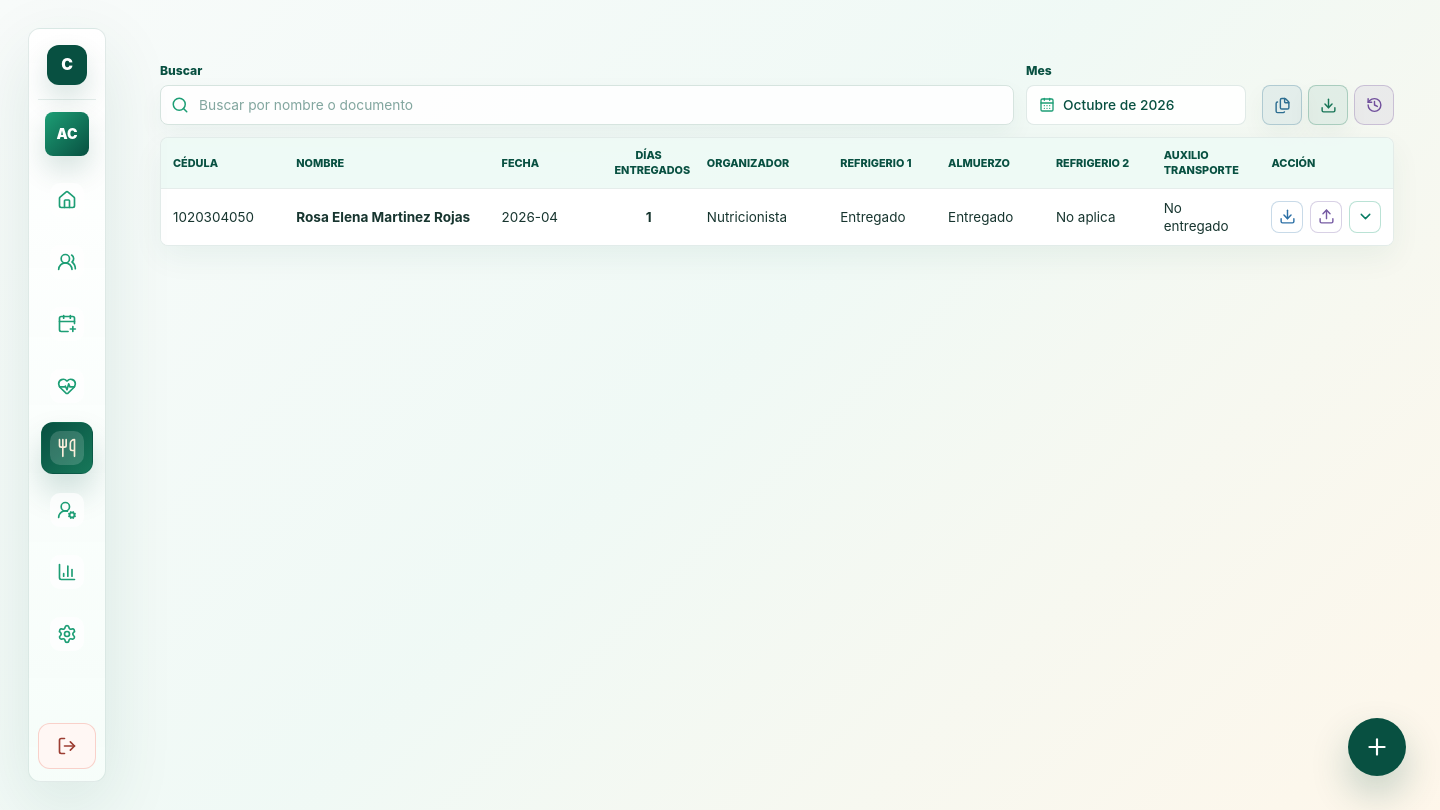
App alimentacion flow › shows the delete confirmation dialog for a daily feeding record
The width and height of the screenshot is (1440, 810).
Click the button named "Mostrar registros de Rosa Elena Martinez Rojas" at [1366, 217], box [1350, 201, 1382, 233]
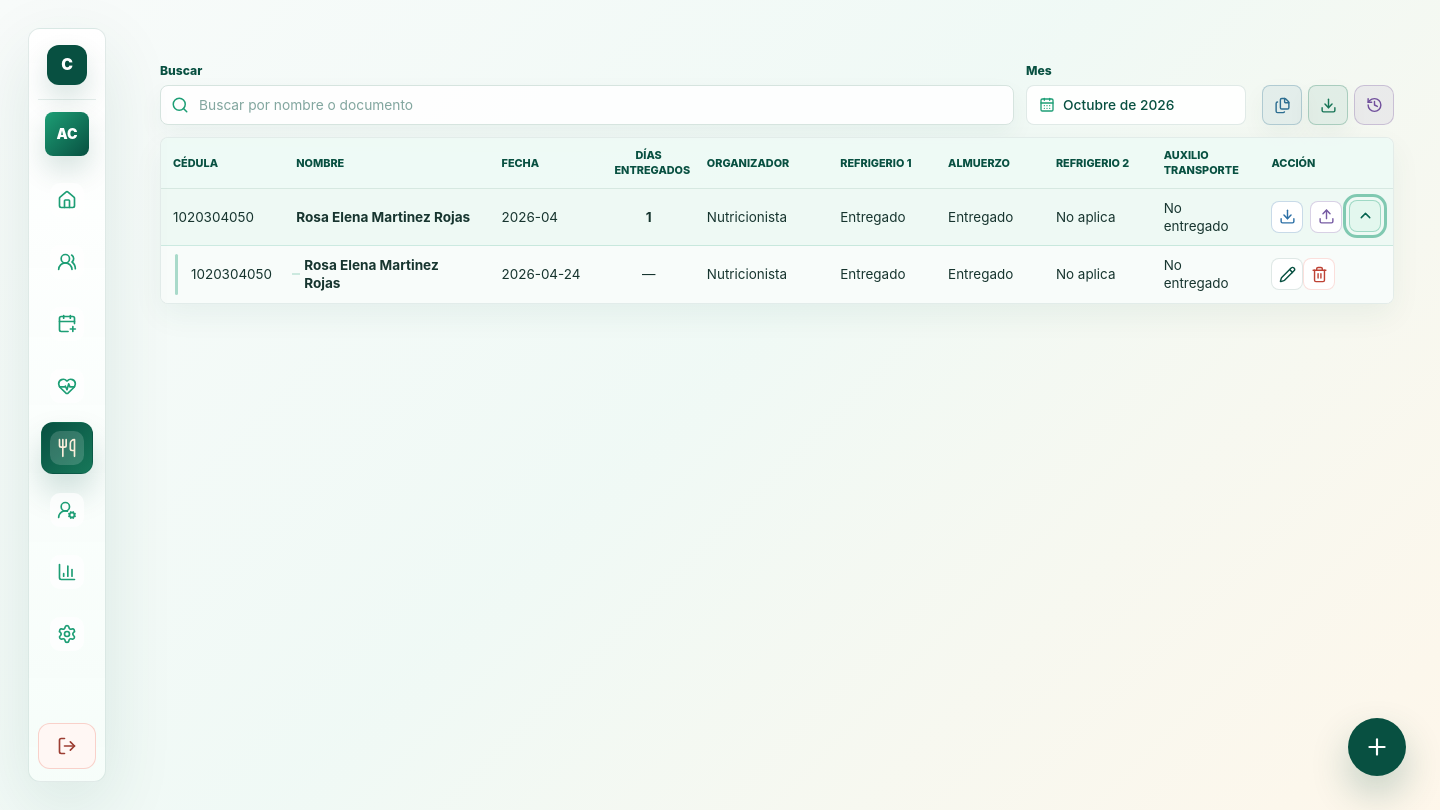
Click the button named "Eliminar alimentación de Rosa Elena Martinez Rojas del día 2" at [1320, 274], box [1304, 258, 1336, 290]
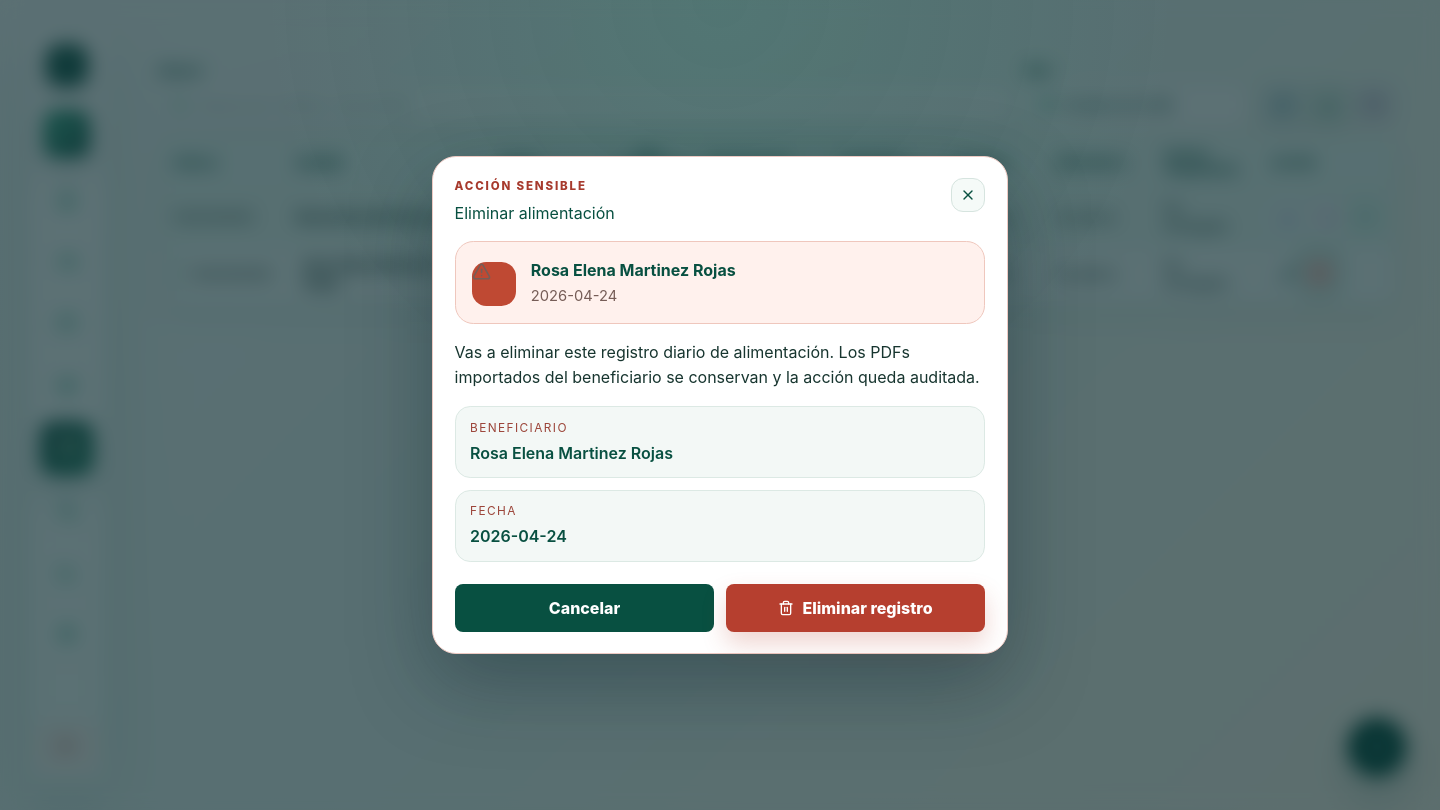
Expected: the dialog "Eliminar alimentación" shows "Rosa Elena Martinez Rojas", [531, 260, 736, 280]
Expected: the dialog "Eliminar alimentación" shows "2026-04-24", [531, 287, 617, 305]
Expected: the button "Eliminar registro" is shown, [726, 584, 985, 632]
